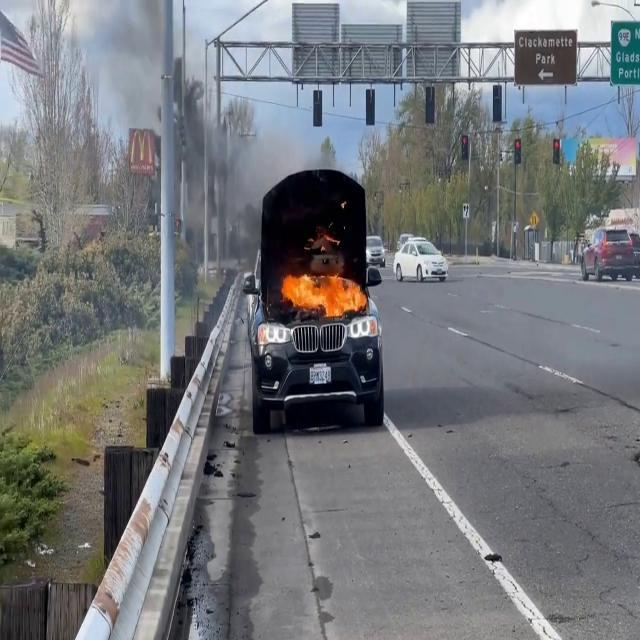Fire: (278, 259, 368, 322)
Smoke: (157, 74, 260, 230)
